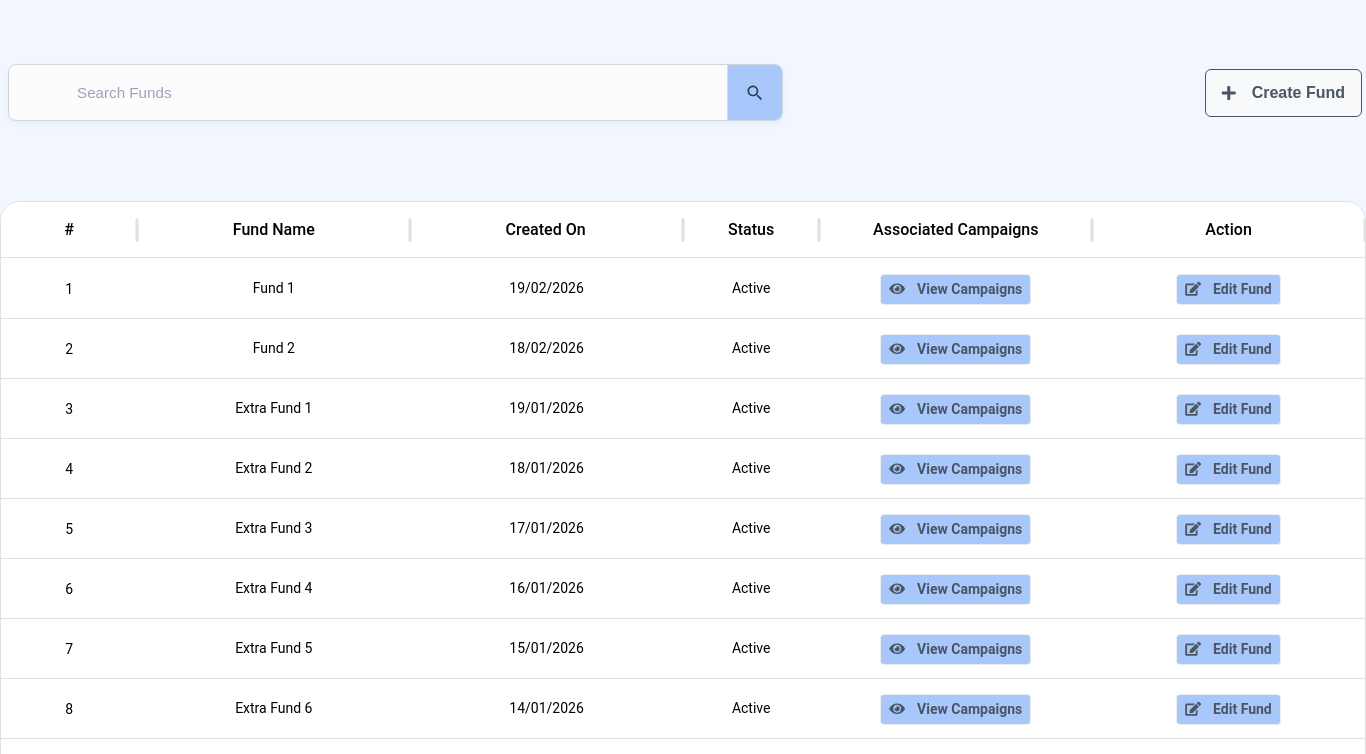
OrganizationFunds Screen => › open and close update fund modal
Expected: the search field with test id "searchByName" is shown, [29, 84, 691, 101]
Click the button with test id "editFundBtn" in the row of "19/02/2026". click: [1228, 289]
box: [1176, 274, 1281, 305]
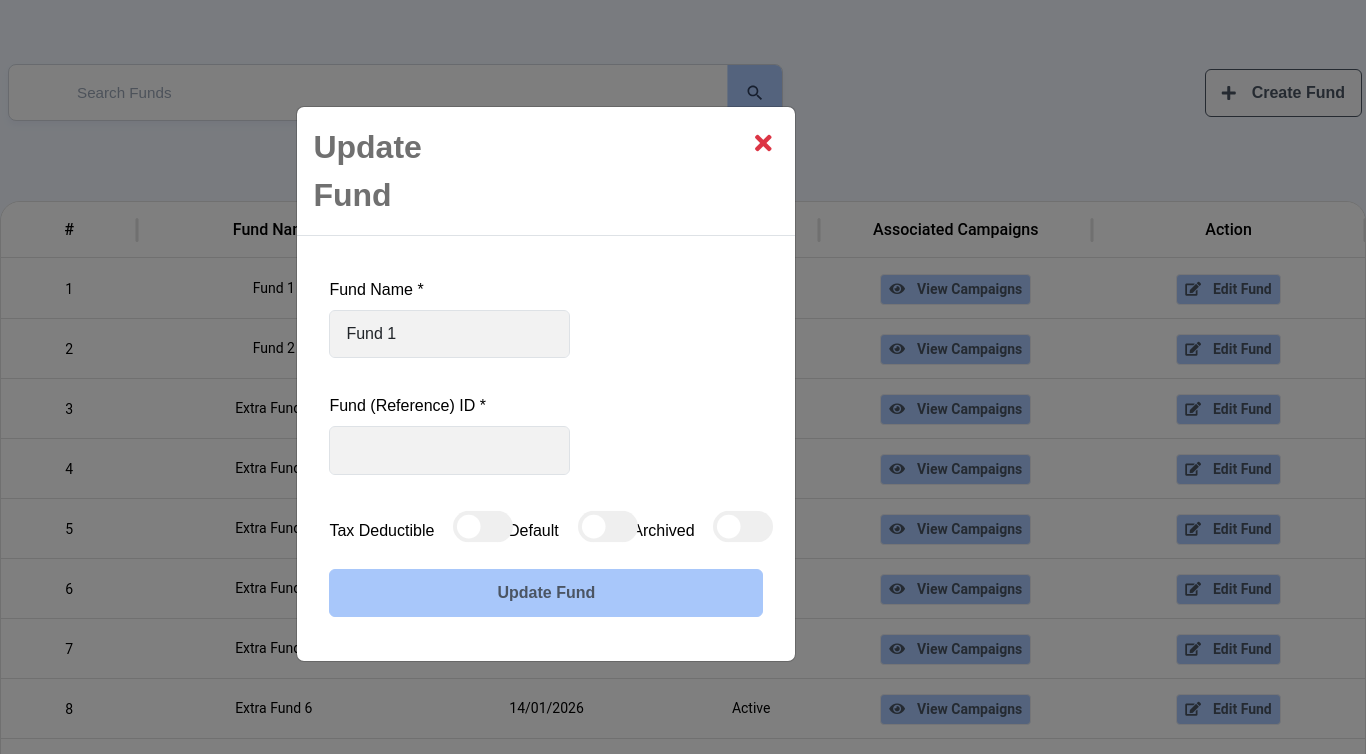
Result: the 1st text "Update Fund" is shown at [313, 123, 440, 219]
Click the button with test id "modalCloseBtn". click: [763, 143]
box: [747, 123, 779, 163]
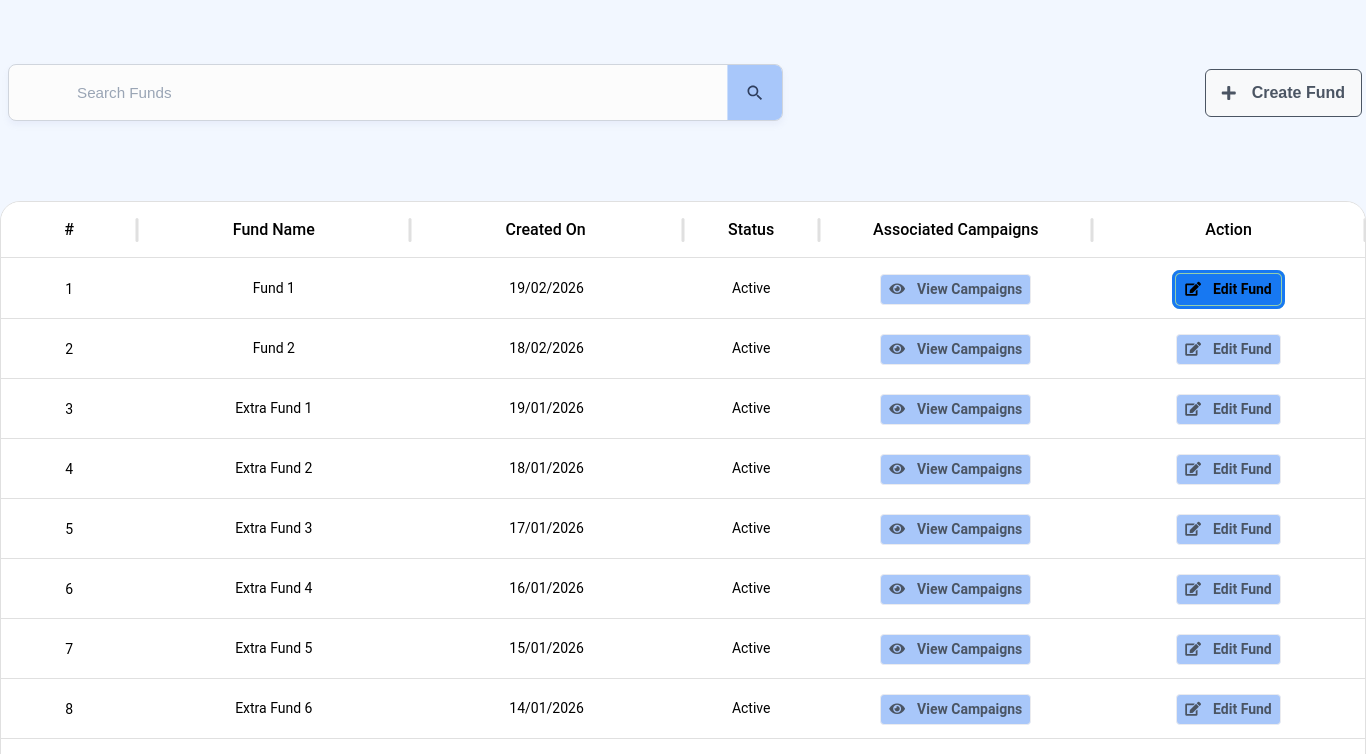
Result: the button with test id "modalCloseBtn" is gone
